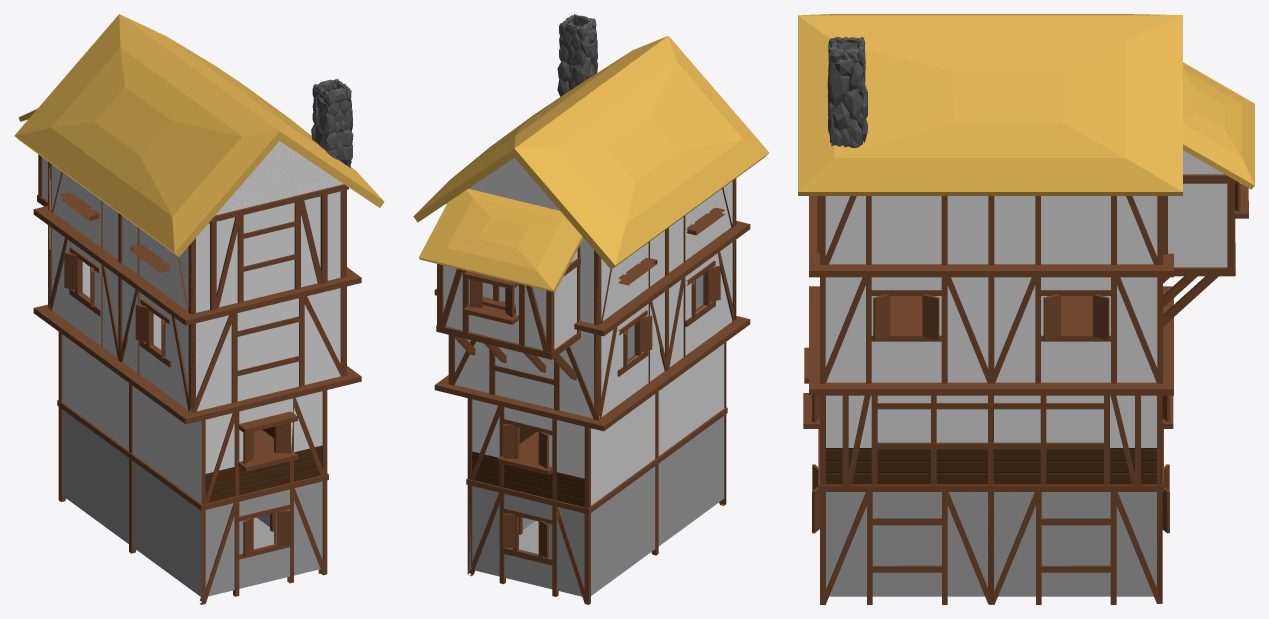
File: building_large.fbx
The picture shows the model from 3 angles, left to right: view 1: azimuth 30°, elevation 25°; view 2: azimuth 150°, elevation 25°; view 3: azimuth 270°, elevation 25°; orthographic projection. The views are drawn at different scales.
Parts seen in each view (by area): view 1: Plane.010, Cube.054, Cube.055, Cube.036, Cube.038, Cube.037, Cube.051, Cube.052, Cube.099, Cube.095, Cube.053; view 2: Plane.010, Cube.054, Cube.055, Cube.051, Cube.053, Cube.059, Cube.052, Cube.060, Cube.036, Cube.037, Cube.098, Cube.099 (+1 smaller); view 3: Plane.010, Cube.054, Cube.055, Cube.051, Cube.036, Cube.038, Cube.053, Cube.092, Cube.037, Cube.052, Cube.059, Cube.099 (+1 smaller).
Boxes of the visible parts, x1,y1,x2,y2 form: Plane.010: [14, 14, 384, 256]; Cube.054: [52, 141, 343, 411]; Cube.055: [33, 161, 361, 424]; Cube.036: [132, 461, 322, 597]; Cube.038: [127, 383, 328, 604]; Cube.037: [132, 386, 322, 503]; Cube.051: [62, 409, 128, 543]; Cube.052: [62, 334, 128, 450]; Cube.099: [311, 79, 353, 167]; Cube.095: [205, 445, 322, 502]; Cube.053: [57, 332, 128, 501]; Plane.010: [413, 35, 769, 292]; Cube.054: [455, 181, 732, 418]; Cube.055: [434, 178, 750, 431]; Cube.051: [469, 466, 655, 596]; Cube.053: [466, 398, 659, 604]; Cube.059: [443, 158, 593, 361]; Cube.052: [472, 394, 655, 505]; Cube.060: [436, 257, 580, 380]; Cube.036: [658, 416, 724, 546]; Cube.037: [658, 343, 724, 455]; Cube.098: [468, 451, 584, 507]; Cube.099: [557, 14, 598, 96]; Plane.010: [798, 14, 1254, 195]; Cube.054: [825, 196, 1157, 382]; Cube.055: [809, 196, 1173, 395]; Cube.051: [994, 492, 1156, 596]; Cube.036: [826, 492, 987, 596]; Cube.038: [803, 347, 995, 604]; Cube.053: [987, 395, 1173, 604]; Cube.092: [826, 448, 1156, 484]; Cube.037: [826, 395, 987, 447]; Cube.052: [994, 395, 1156, 447]; Cube.059: [1168, 150, 1227, 267]; Cube.099: [827, 36, 867, 148].
Bounding box in the file's own units: 1272 × 2760 × 1996.
